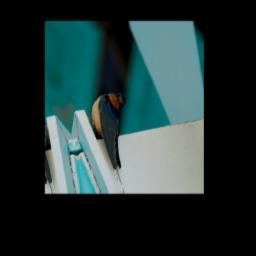Swallow: (82, 87, 151, 188)
